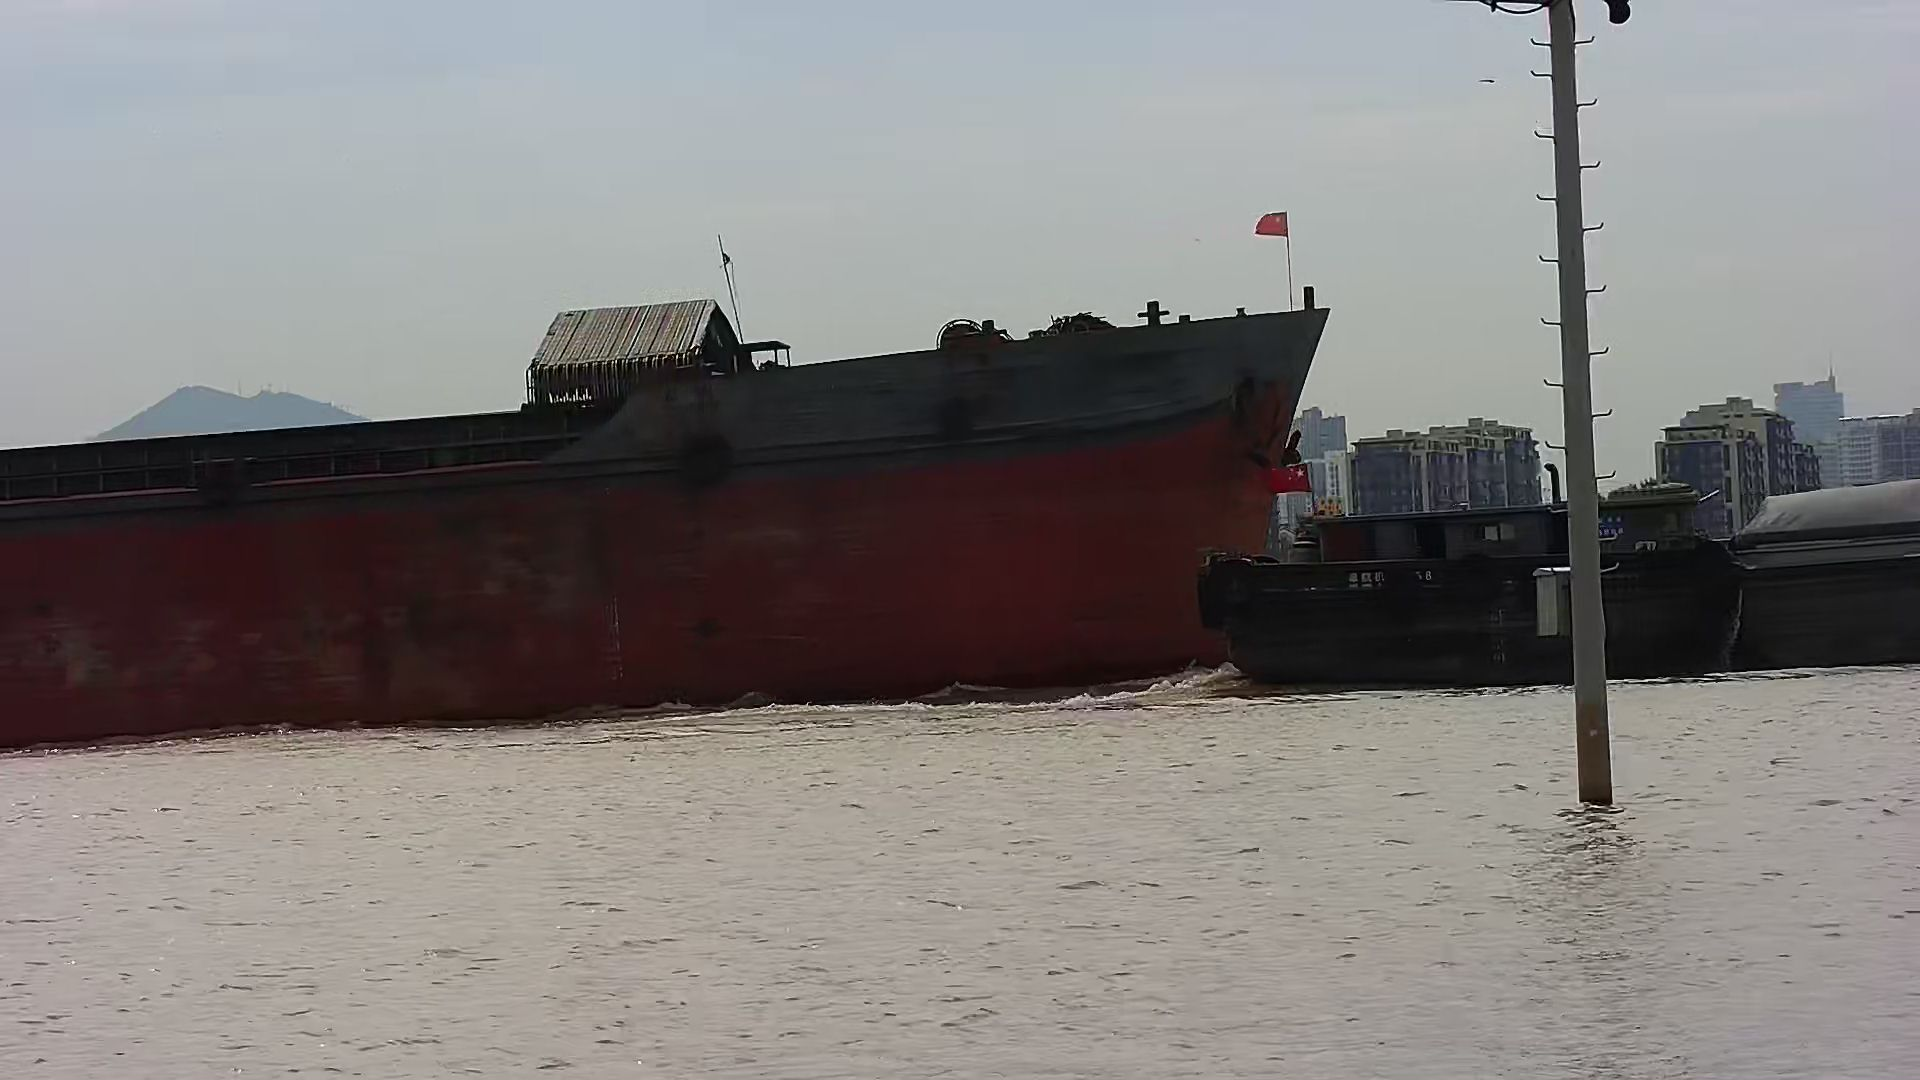mast: (1478, 1, 1633, 802)
ship: (1, 289, 1335, 749), (1197, 462, 1920, 691)
